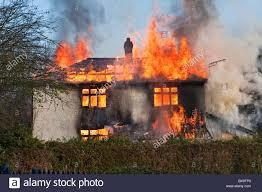fire: (81, 86, 107, 106)
